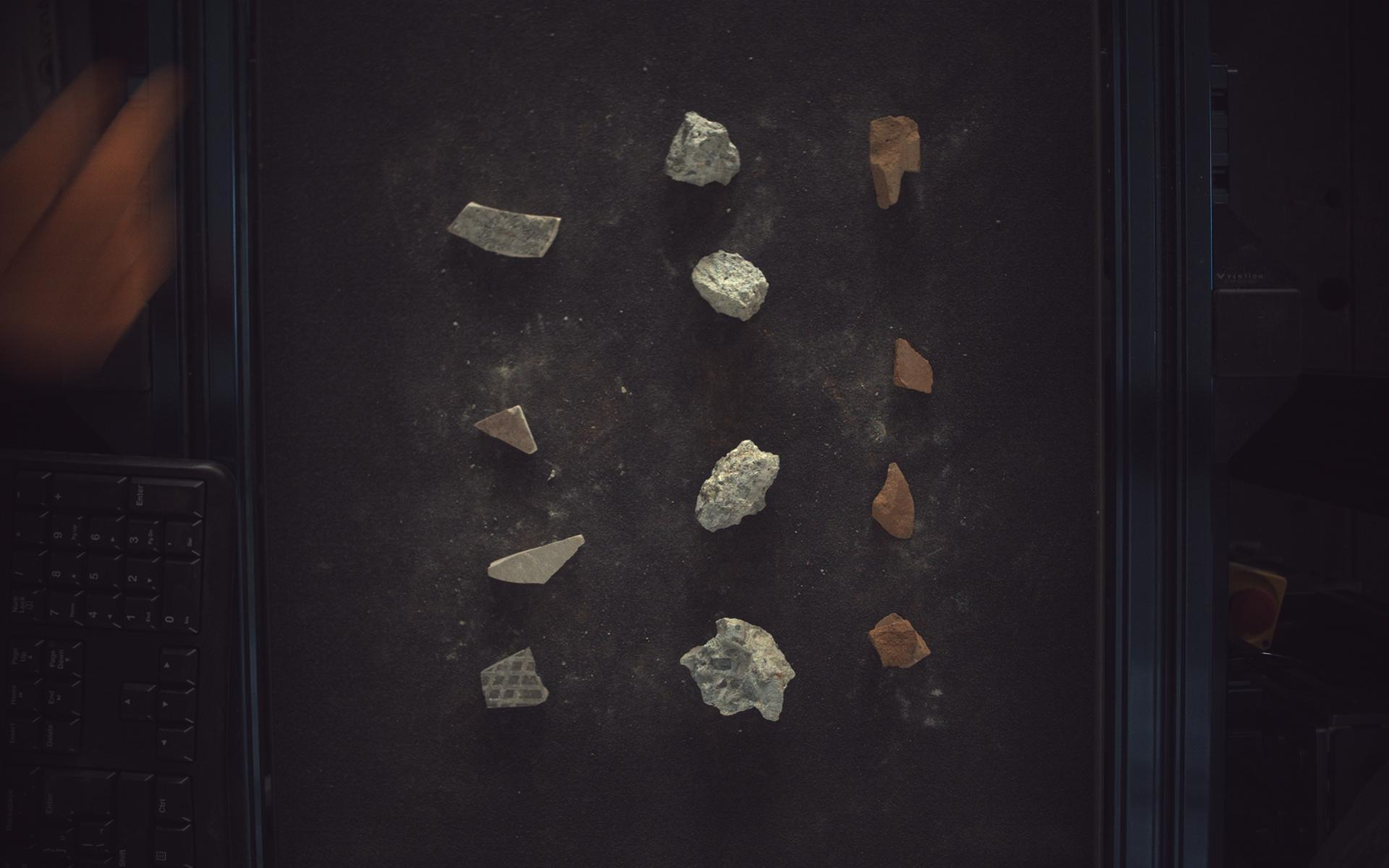brick: (872, 115, 922, 208), (870, 614, 932, 669), (874, 463, 917, 540), (896, 339, 935, 393)
concrete: (682, 618, 797, 723), (697, 440, 781, 532), (666, 111, 742, 185), (693, 250, 770, 320)
tile: (448, 202, 561, 258), (488, 535, 585, 584), (480, 649, 549, 710), (475, 405, 538, 454), (849, 12, 853, 18)
